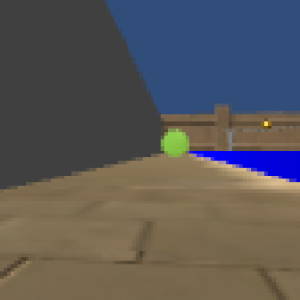goodGoal: (161, 127, 191, 161)
goodGoalMulti: (260, 117, 272, 132)
platform: (190, 145, 300, 188)
wall: (1, 1, 163, 189)
